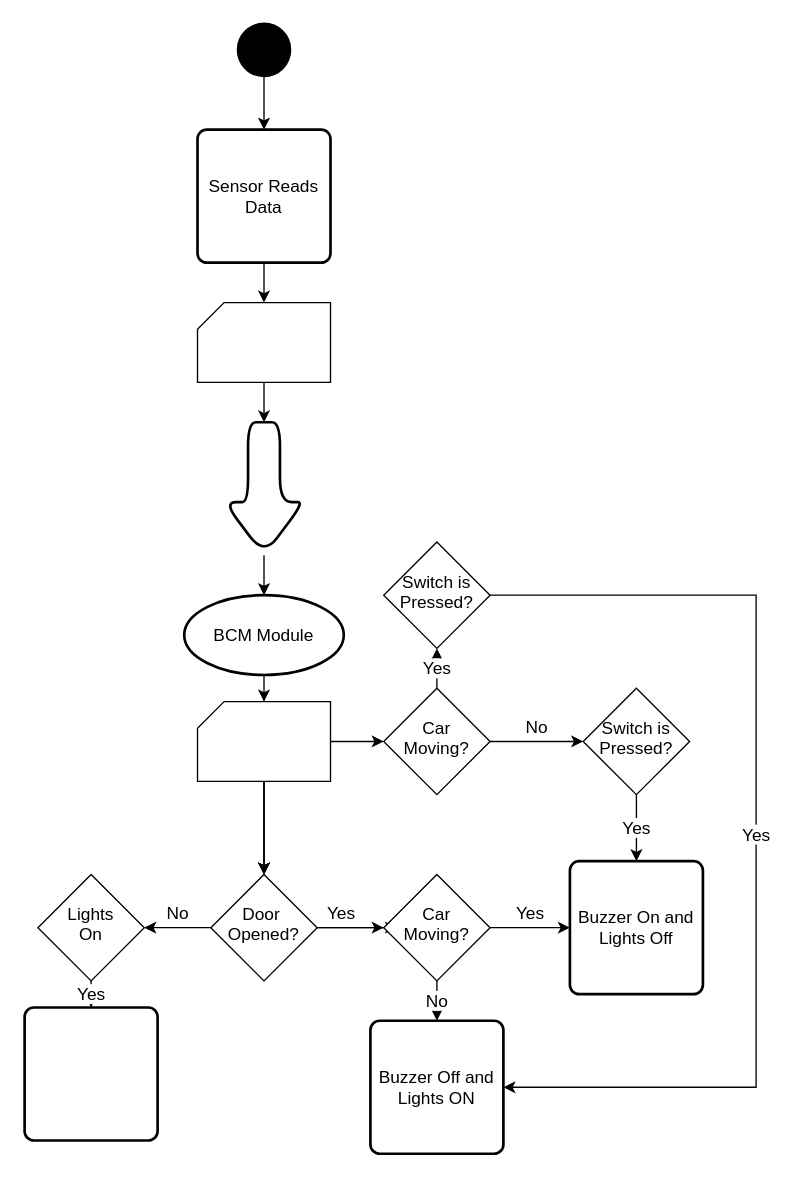
This 793x1178 diagram has some shape labels left out. The centre of each missing label's shape, as x and y in pixels:
"ECU 1" belongs at point (263, 341).
"ECU 2" belongs at point (263, 740).
"Lights Off after 3 Seconds" belongs at point (90, 1073).
"Send Data" belongs at point (263, 488).
"Start" belongs at point (263, 49).
